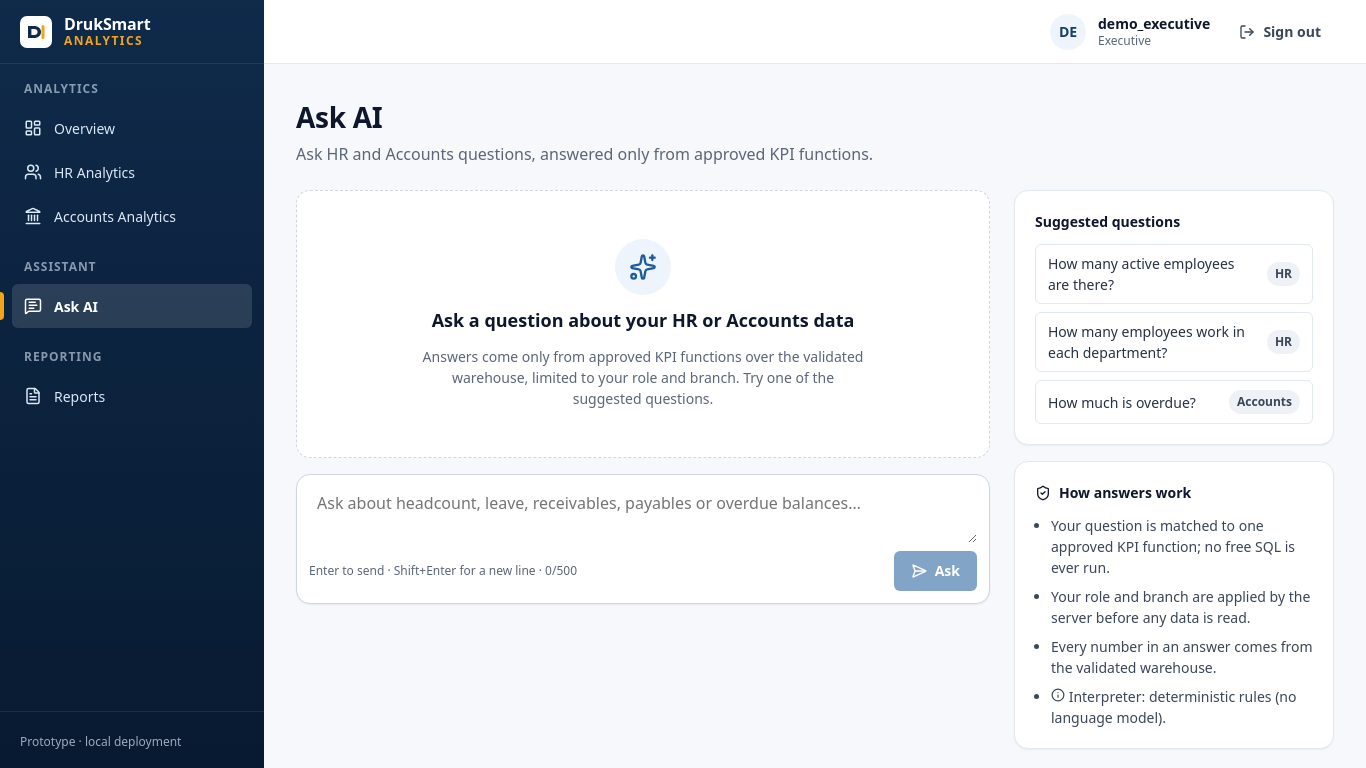
Test: Ask AI › sends the question to the assistant API with the CSRF token and shows the answer
Type "How much is overdue?" into the text box named "Your question".
click(643, 515); type("How much is overdue?")  # box [309,487,977,543]
Then press Enter
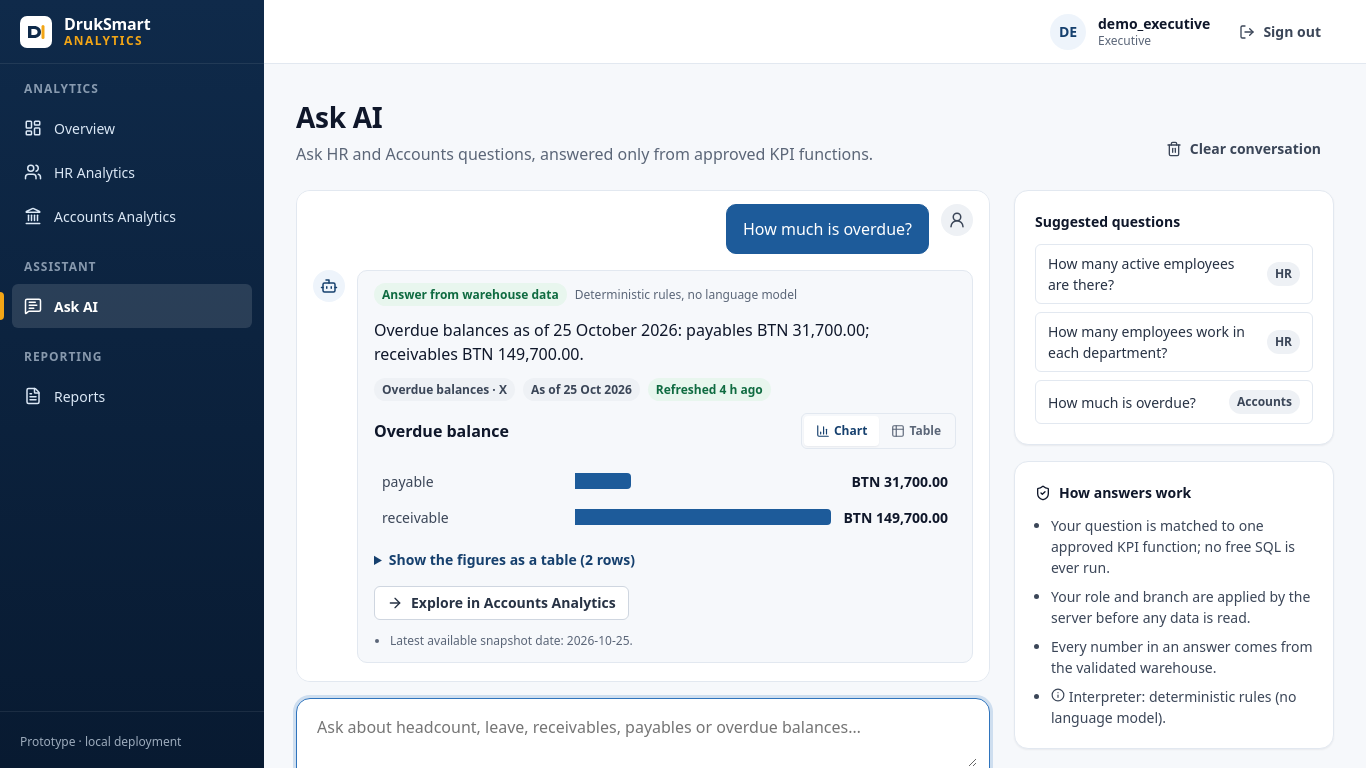
Expected: the text "receivables BTN 149,700.00" is shown, [374,319,869,365]
Expected: the text "Answer from warehouse data" is shown, [374,283,567,306]
Expected: the text "Deterministic rules, no language model" is shown, [575,286,797,304]
